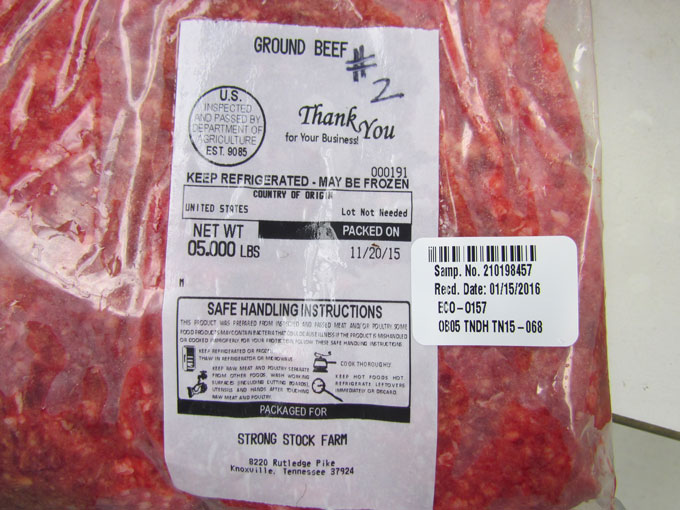ground_beef: (14, 9, 598, 486)
